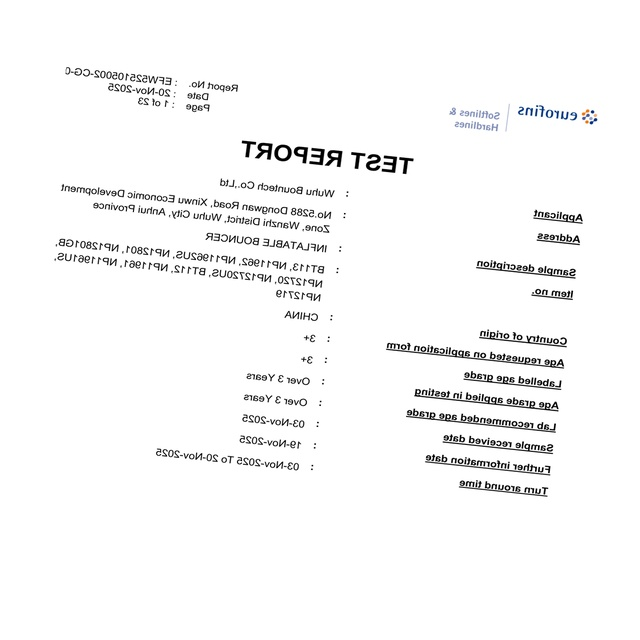eurofins: (512, 97, 602, 129)
